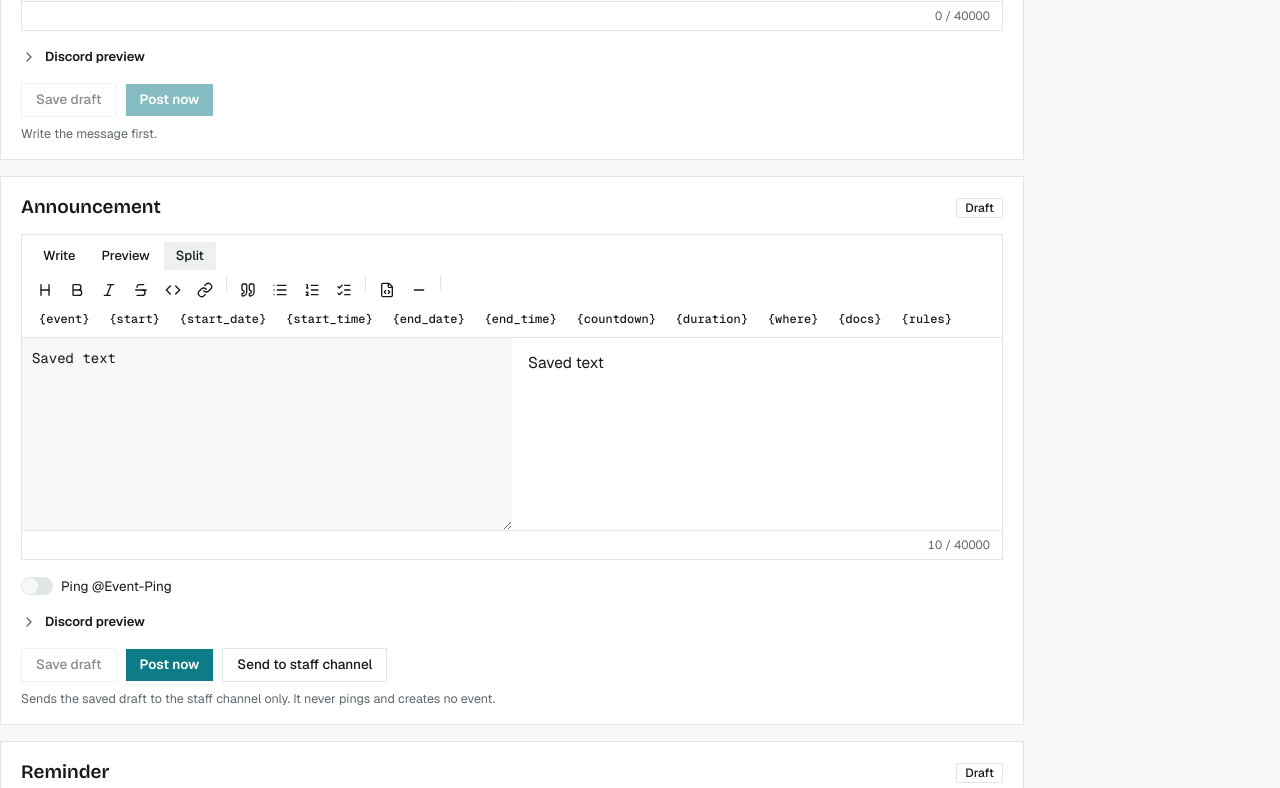
Scenario: MessagesTab › shows the save-first hint exactly once while dirty
The width and height of the screenshot is (1280, 788).
(page scrolled)
Replace the text in the text box next to "Saved text" with "Changed" at (267,434), box [22,338,512,530]
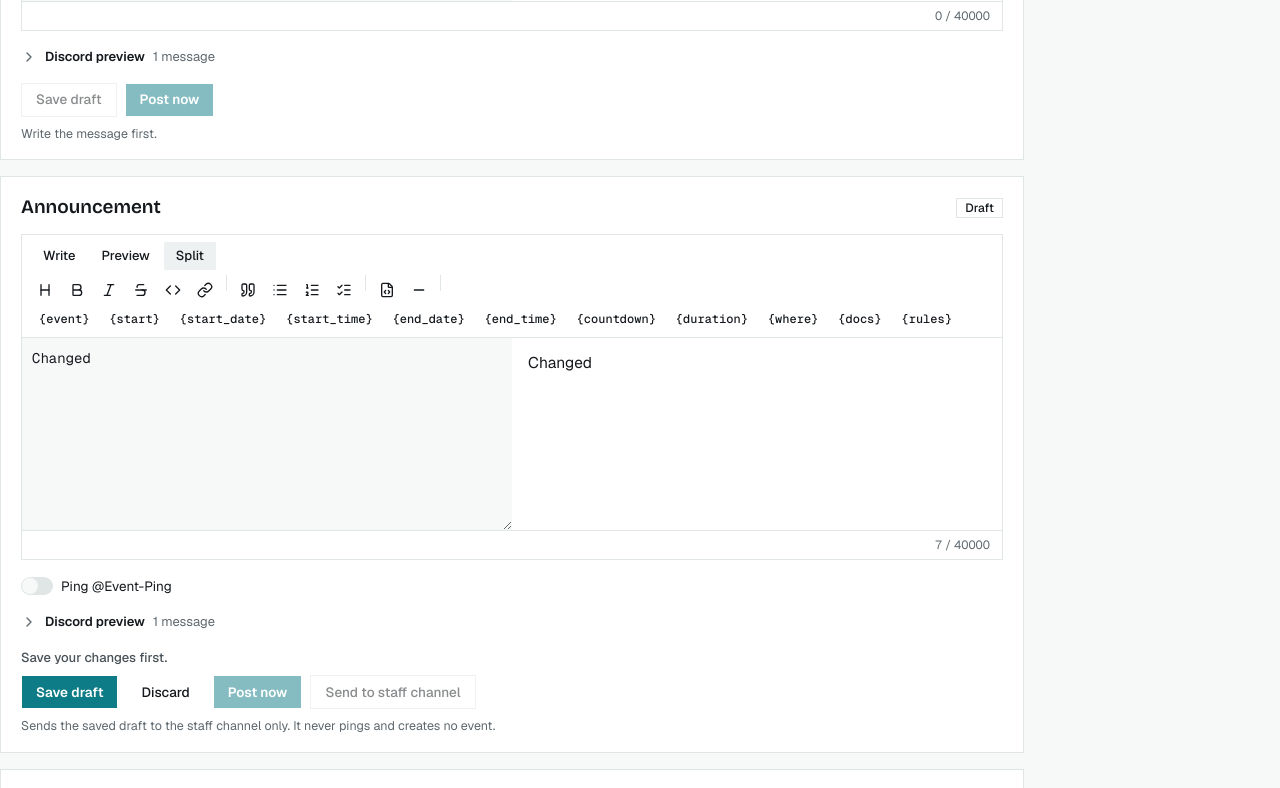
Expected: the text "Save your changes first." is shown once, [21,648,167,666]
